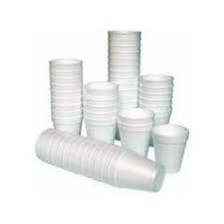paper_cup: (29, 123, 169, 195), (45, 54, 87, 142), (105, 26, 145, 115), (135, 70, 177, 149), (79, 78, 121, 150), (115, 104, 157, 163), (149, 120, 191, 176)
